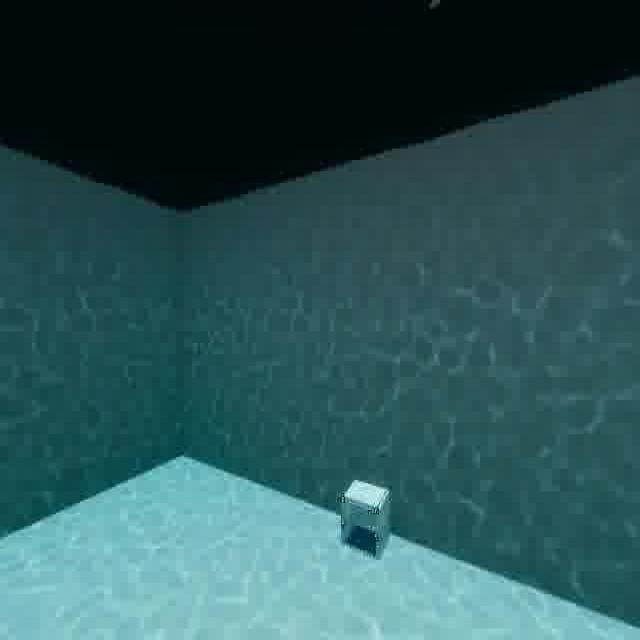Docking Station: (335, 474, 401, 570)
